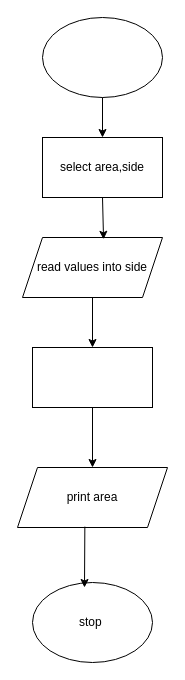
The diagram is 185 pixels wide and 680 high, and some of its shapes have lost their labels. The shapes that lost their labels are listed below. From the top down, each one's centre as x and y in pixels, then its label:
(x=102, y=57): start
(x=92, y=377): area=side*side
